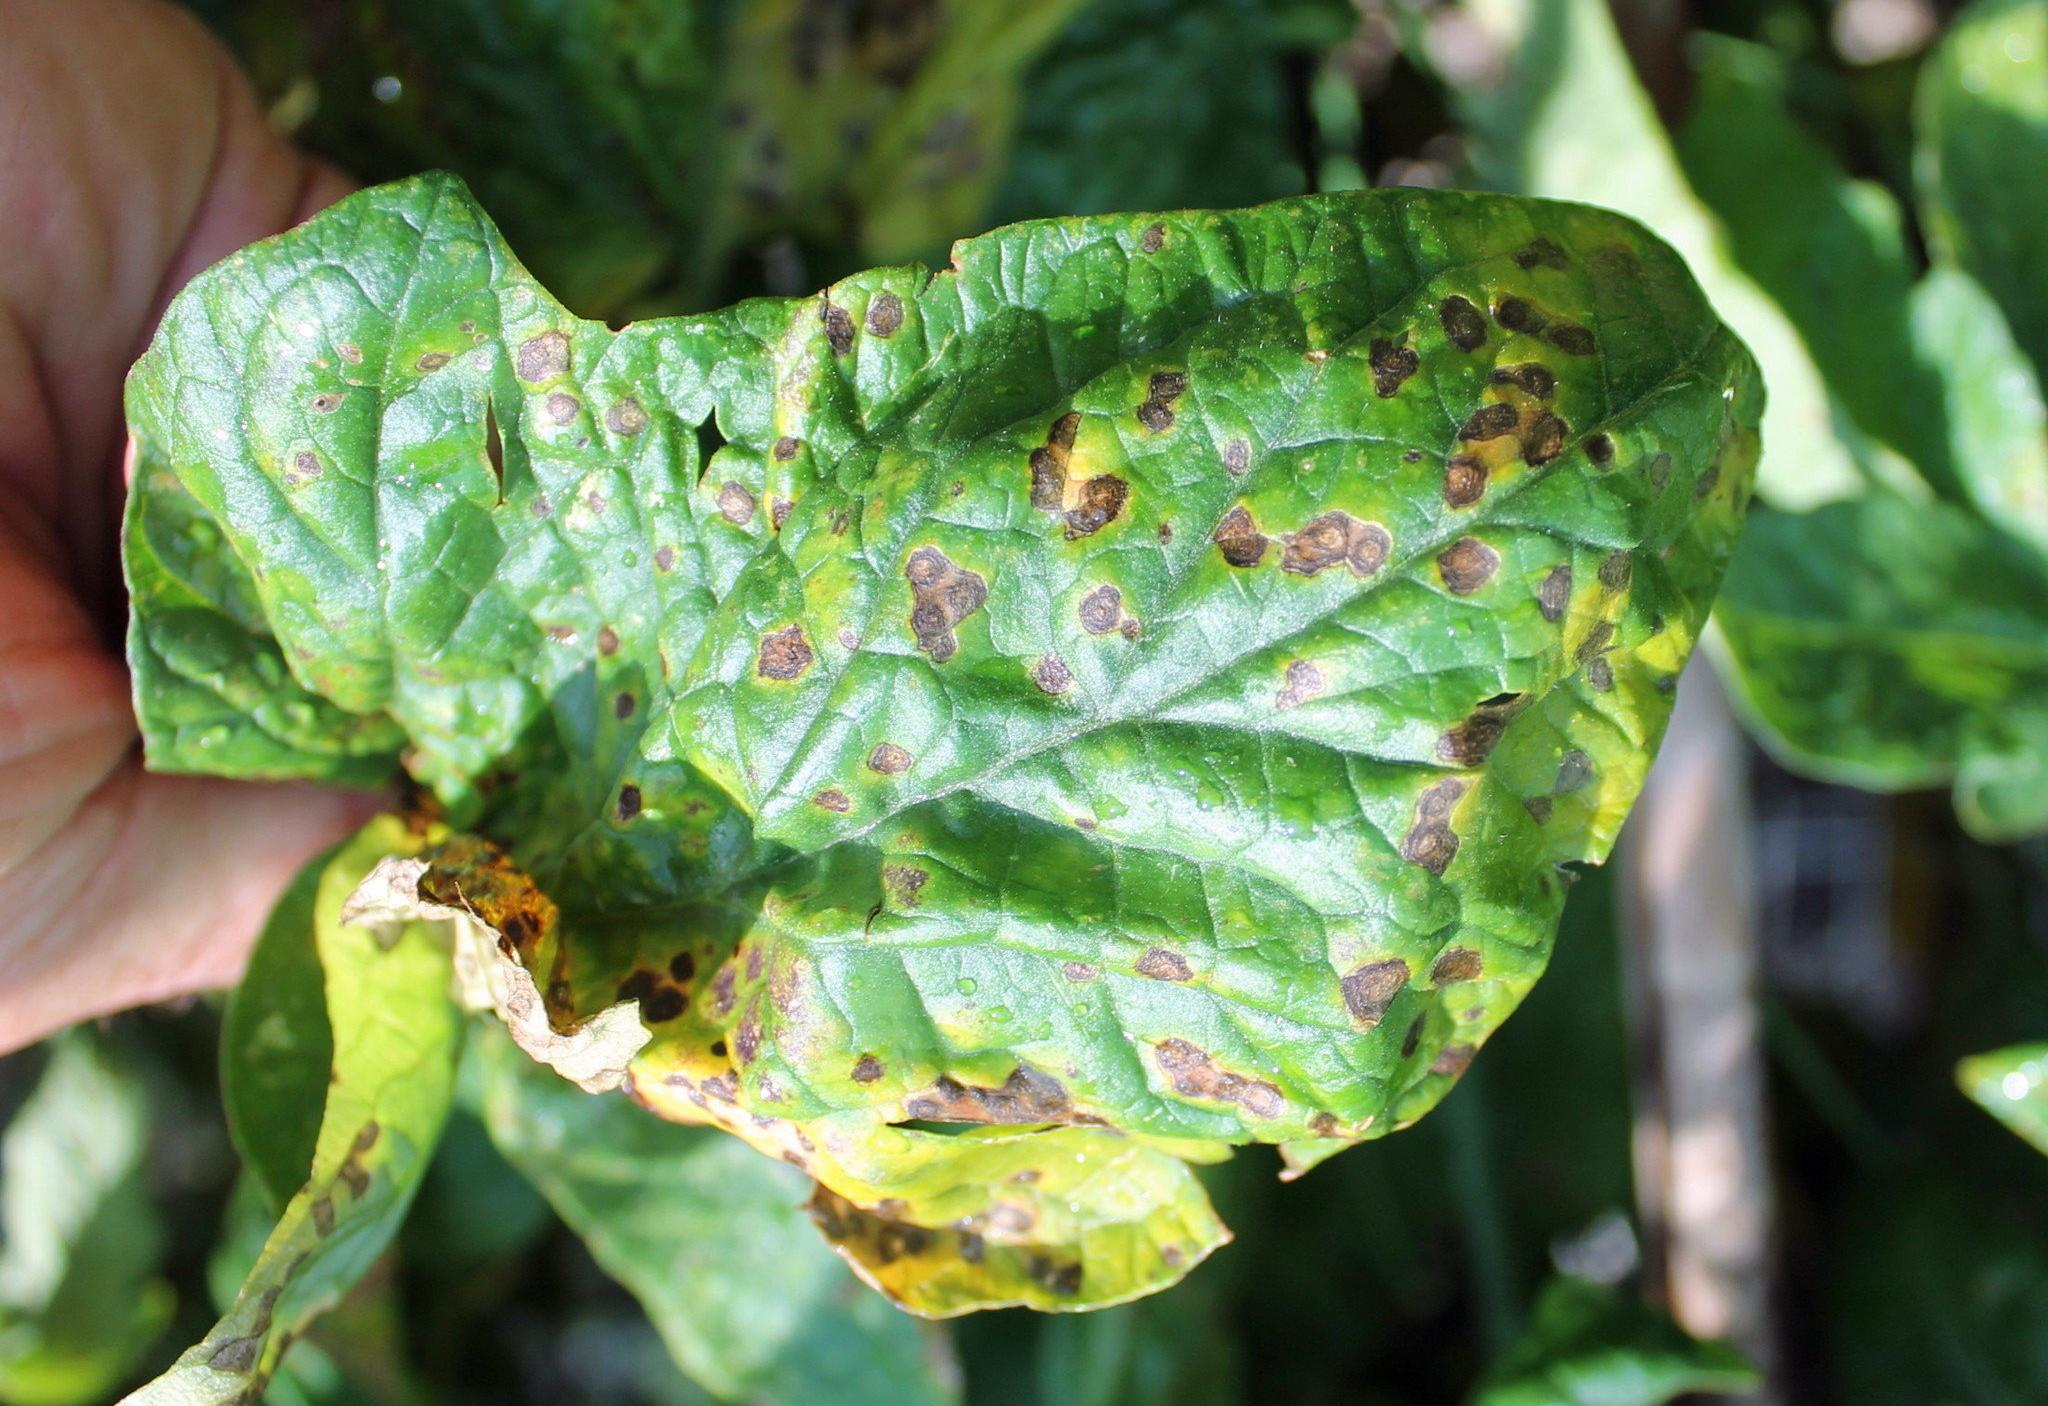Tomato Septoria leaf spot: (86, 111, 1808, 1325)
